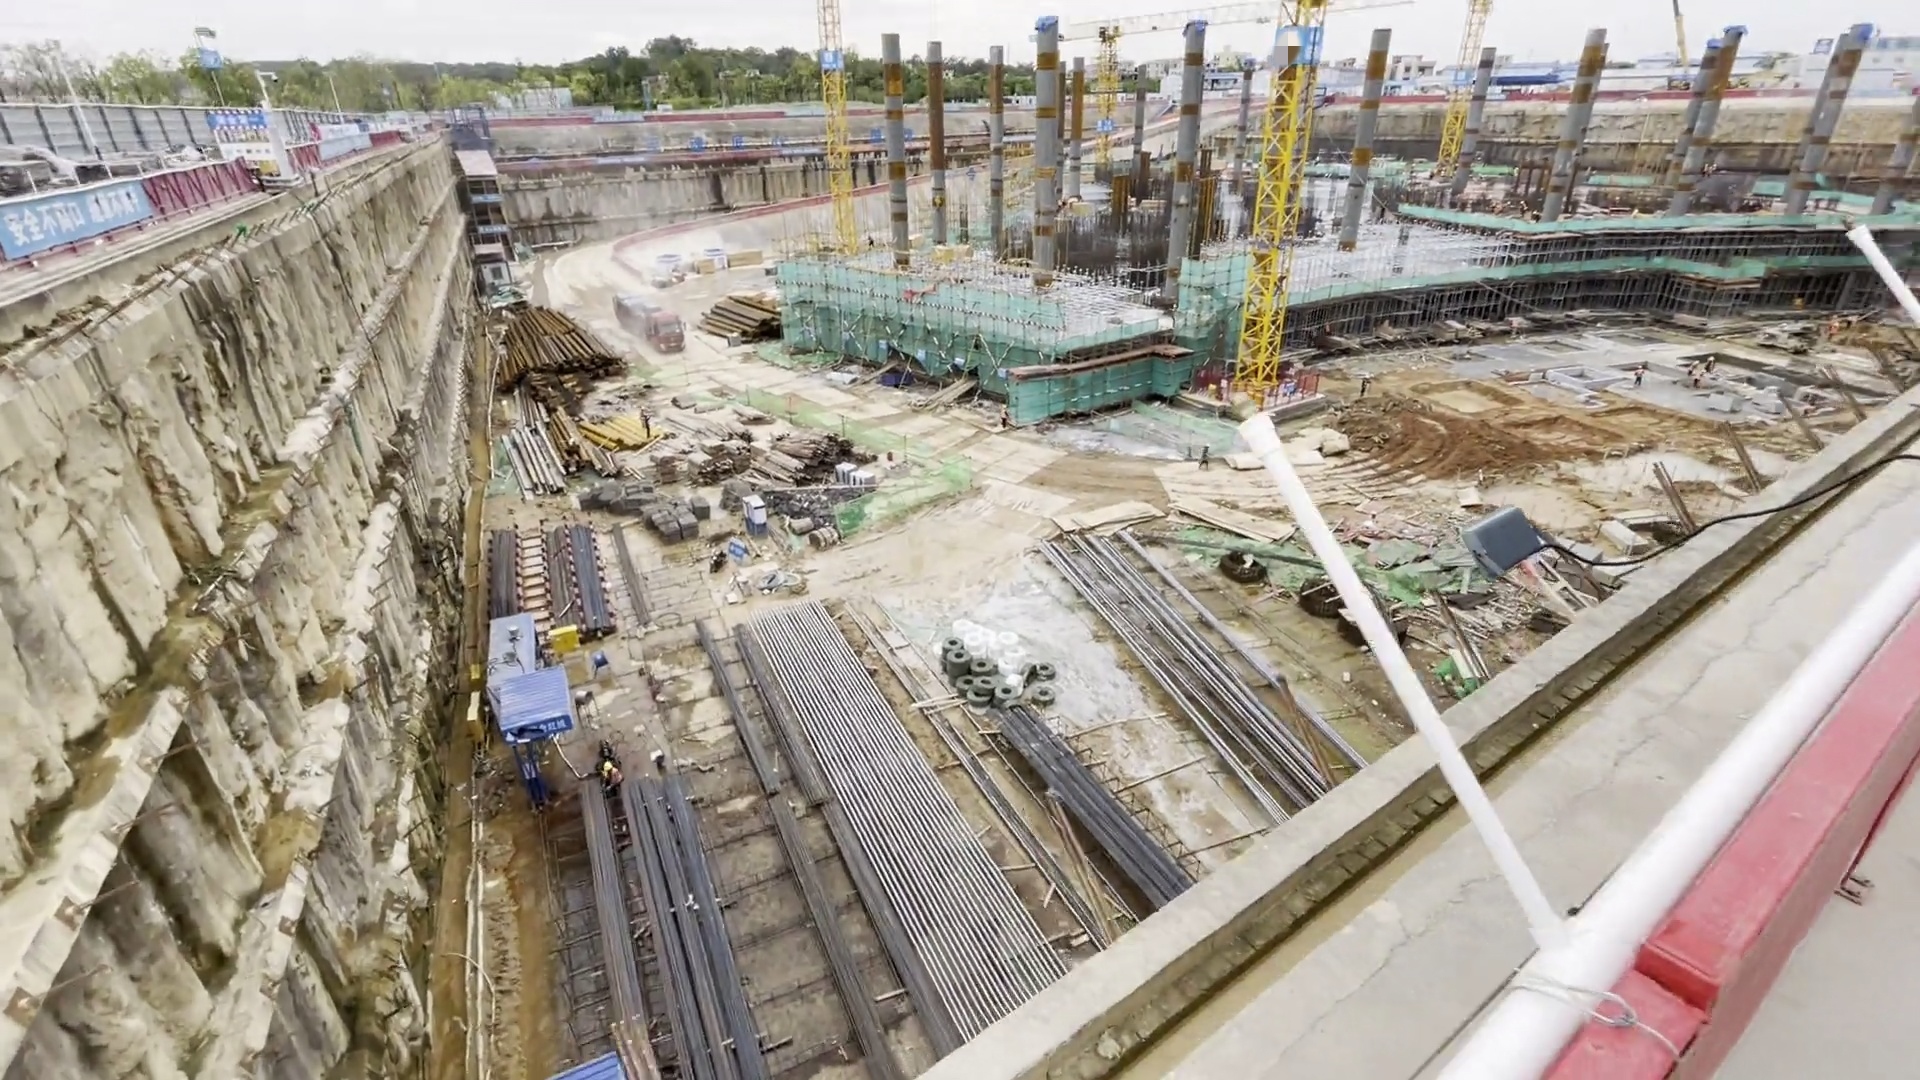brick: (1566, 537, 1635, 596), (833, 462, 873, 489)
ebox: (548, 626, 592, 661), (1241, 390, 1270, 411)
fence: (2, 153, 262, 264)
helmet: (602, 760, 612, 772), (1365, 373, 1371, 379)
hopper: (881, 372, 912, 386)
person: (599, 759, 630, 794), (635, 404, 658, 443), (1196, 443, 1215, 473), (1358, 375, 1375, 398), (1630, 362, 1647, 384)
rebar: (1002, 701, 1221, 935), (593, 815, 777, 1080), (773, 796, 939, 1048), (697, 621, 847, 812), (541, 535, 599, 619), (474, 532, 527, 604)
slogan: (1, 197, 154, 261), (644, 132, 787, 151), (503, 713, 578, 739)
vest: (610, 766, 625, 784), (1361, 380, 1368, 391)
wood: (764, 432, 874, 463), (687, 436, 760, 480)
